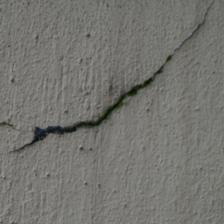Crack: (9, 1, 206, 151)
